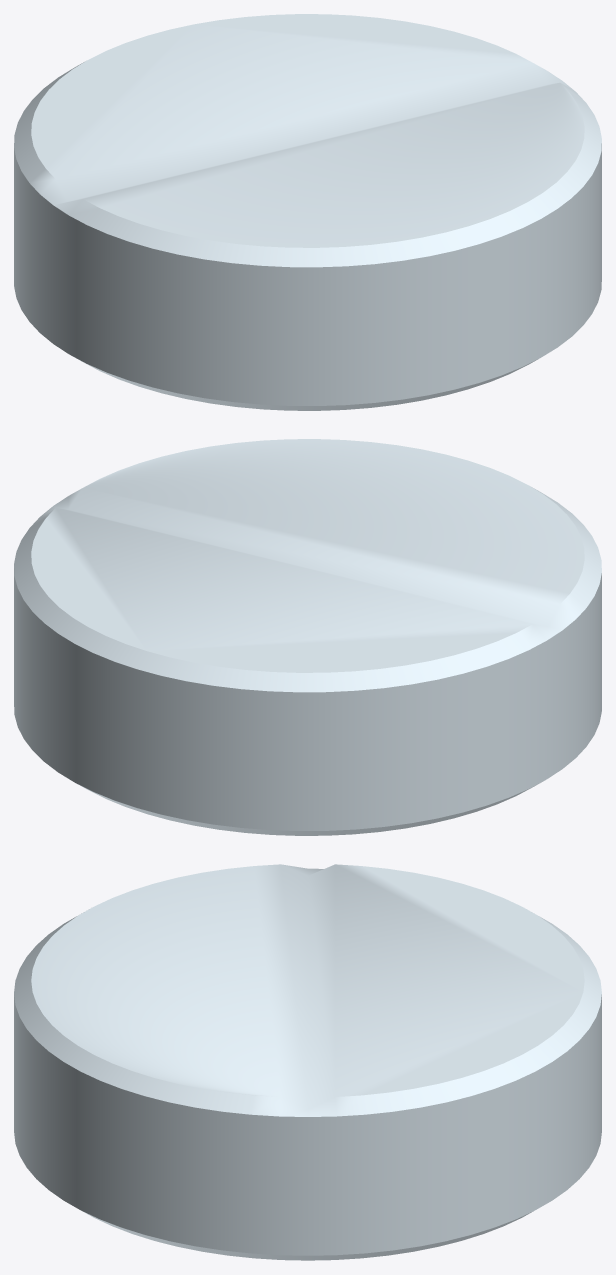
Rendered from tablet.fbx.
The picture shows the model from 3 angles, top to bottom: view 1: azimuth 30°, elevation 25°; view 2: azimuth 150°, elevation 25°; view 3: azimuth 270°, elevation 25°; orthographic projection.
Parts seen in each view (by area): view 1: Cylinder; view 2: Cylinder; view 3: Cylinder.
Part boxes in pixels (box(x1,y1,x2,y2)): Cylinder: box(14, 14, 601, 410); Cylinder: box(14, 439, 601, 835); Cylinder: box(14, 864, 601, 1260).
Size of the model in its own units: 190 by 58.15 by 190.
Materials: 1 (1 with a texture image).
